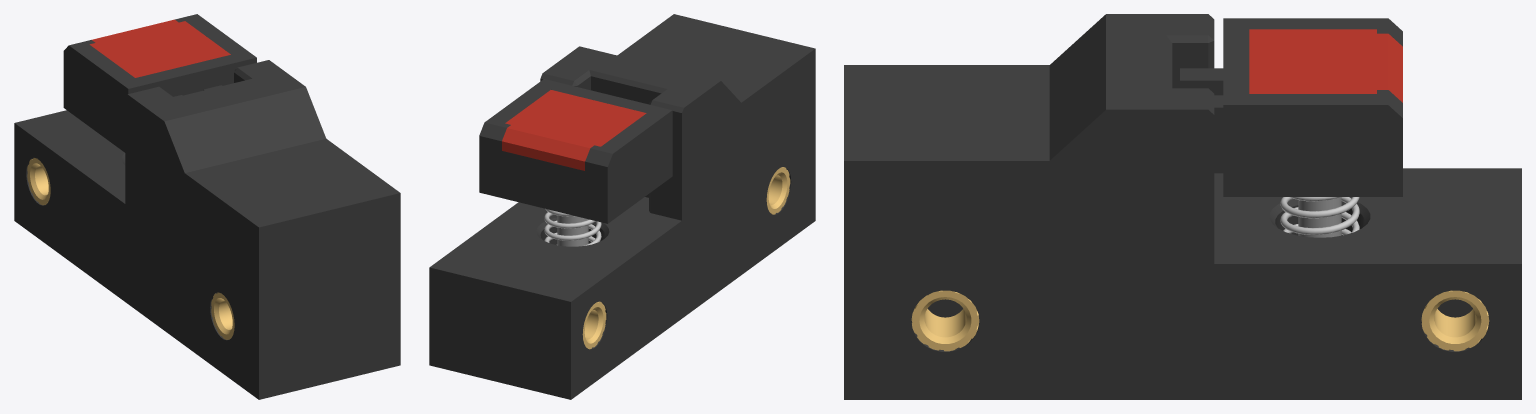
The picture shows the model from 3 angles, left to right: view 1: azimuth 30°, elevation 25°; view 2: azimuth 150°, elevation 25°; view 3: azimuth 270°, elevation 25°; orthographic projection. The views are drawn at different scales.
Visible parts, largest first — view 1: Block, Silicone Cup, Silicone, Heat Insert (3), Heat Insert (2); view 2: Block, Silicone Cup, Silicone, Spring, Heat Insert (3), Heat Insert (2), M3x16 SHCS; view 3: Block, Silicone Cup, Silicone, Heat Insert (1), Heat Insert (4), Spring, M3x16 SHCS.
Part boxes in pixels (box(x1,y1,x2,y2)): Block: box(14, 60, 400, 399); Silicone Cup: box(63, 14, 256, 152); Silicone: box(89, 19, 230, 77); Heat Insert (3): box(211, 292, 234, 339); Heat Insert (2): box(27, 158, 50, 205); Block: box(429, 14, 815, 399); Silicone Cup: box(479, 79, 672, 223); Silicone: box(502, 90, 646, 170); Spring: box(544, 208, 601, 245); Heat Insert (3): box(766, 167, 790, 214); Heat Insert (2): box(582, 301, 606, 349); M3x16 SHCS: box(557, 215, 588, 246); Block: box(844, 14, 1521, 399); Silicone Cup: box(1180, 18, 1402, 196); Silicone: box(1249, 29, 1402, 102); Heat Insert (1): box(911, 290, 979, 351); Heat Insert (4): box(1421, 290, 1489, 351); Spring: box(1280, 197, 1359, 235); M3x16 SHCS: box(1298, 197, 1341, 237).
Bounding box in the file's own units: 0.0156 × 0.0221 × 0.0468.
